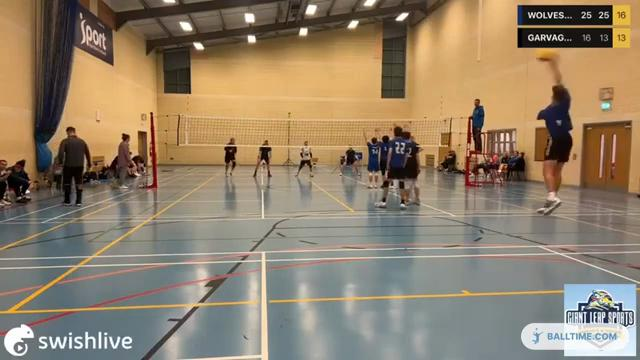Player: (375, 126, 407, 209), (404, 132, 421, 204), (253, 140, 271, 176), (295, 141, 313, 176), (367, 137, 379, 188), (340, 147, 359, 175), (224, 138, 236, 175), (379, 135, 389, 177)
Serve: (534, 50, 572, 219)
ball: (537, 50, 553, 63)
